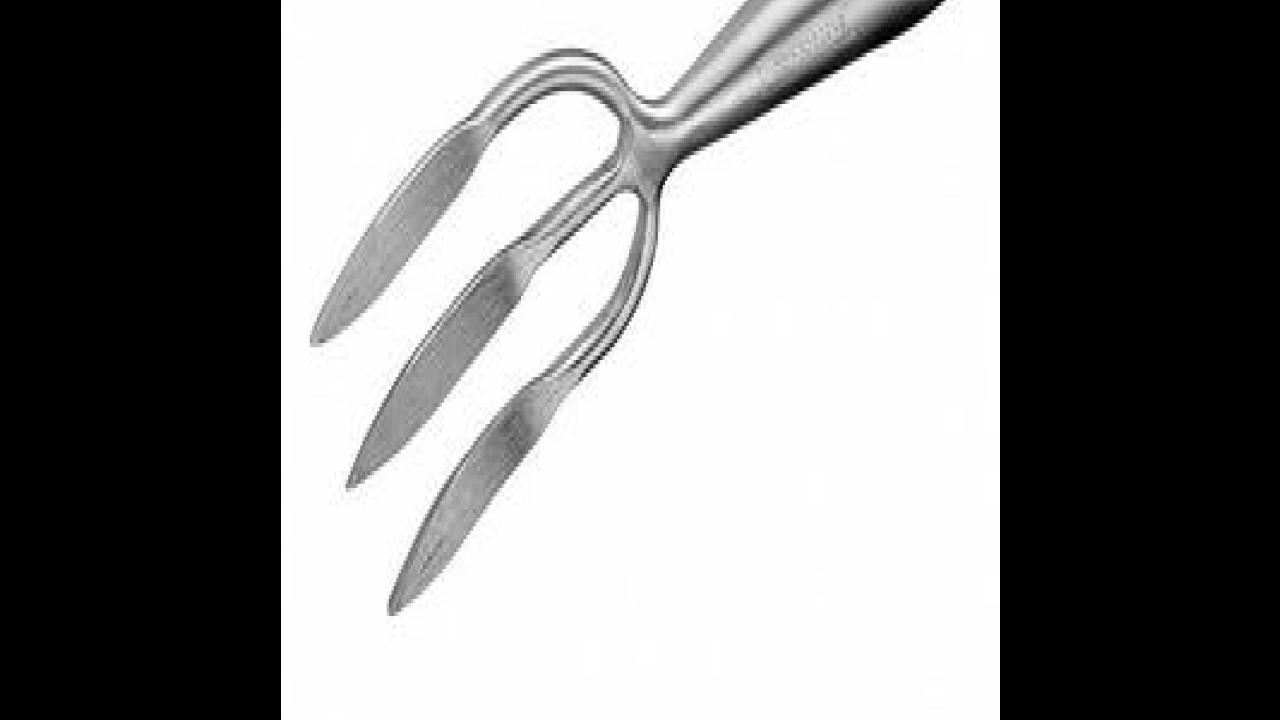fork: (309, 0, 1000, 616)
